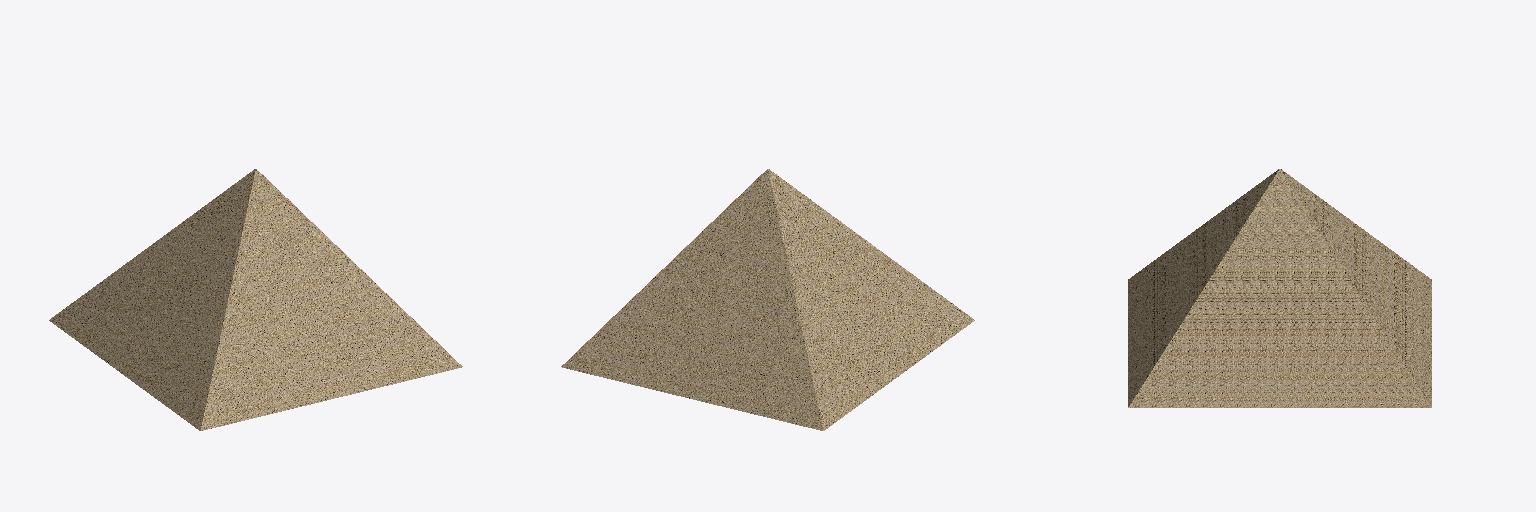
The picture shows the model from 3 angles: view 1: azimuth 30°, elevation 25°; view 2: azimuth 150°, elevation 25°; view 3: azimuth 270°, elevation 25°; orthographic projection.
Parts seen in each view (by area): view 1: Pyramid001; view 2: Pyramid001; view 3: Pyramid001.
Boxes of the visible parts, x1=… form: Pyramid001: x1=49, y1=169, x2=462, y2=430; Pyramid001: x1=561, y1=169, x2=974, y2=430; Pyramid001: x1=1128, y1=169, x2=1431, y2=407.
Size of the model in its own units: 13.73 by 8.76 by 13.73.
1 materials, 1 textured.